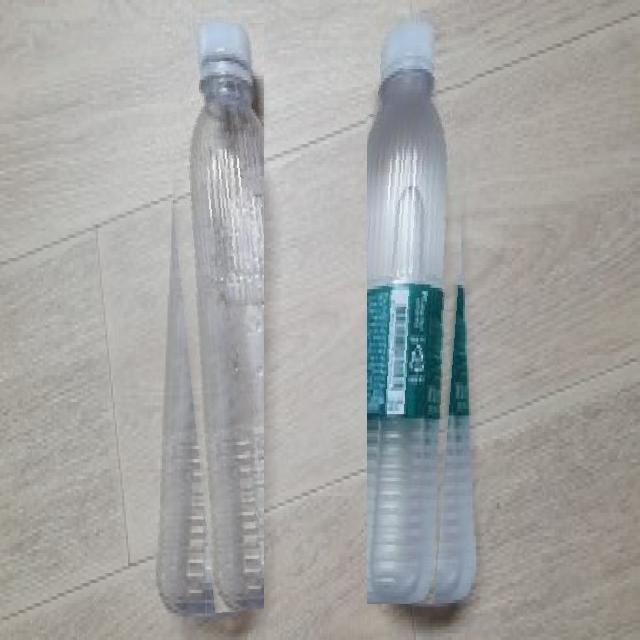plastic bottle: (367, 16, 478, 604), (154, 24, 264, 614)
